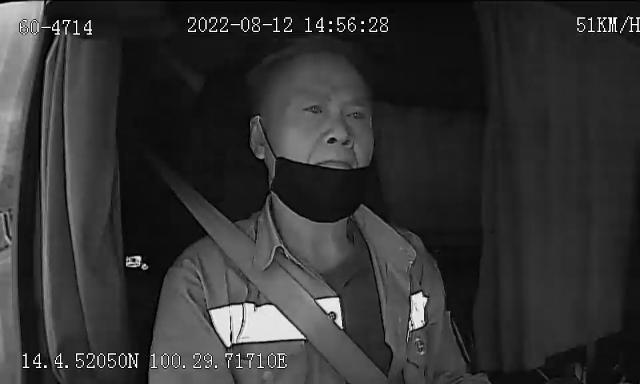SafeDriving: (296, 96, 332, 121), (338, 101, 372, 126)
Seatbelt: (175, 185, 392, 384)
